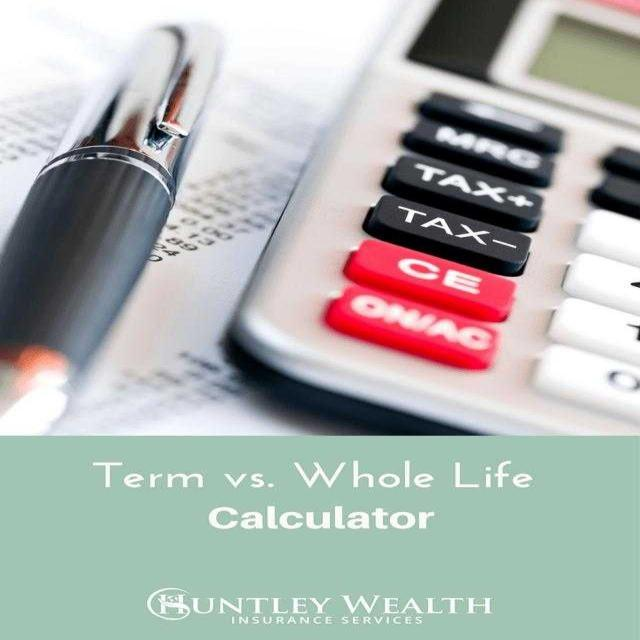Calculator: (236, 0, 639, 434)
